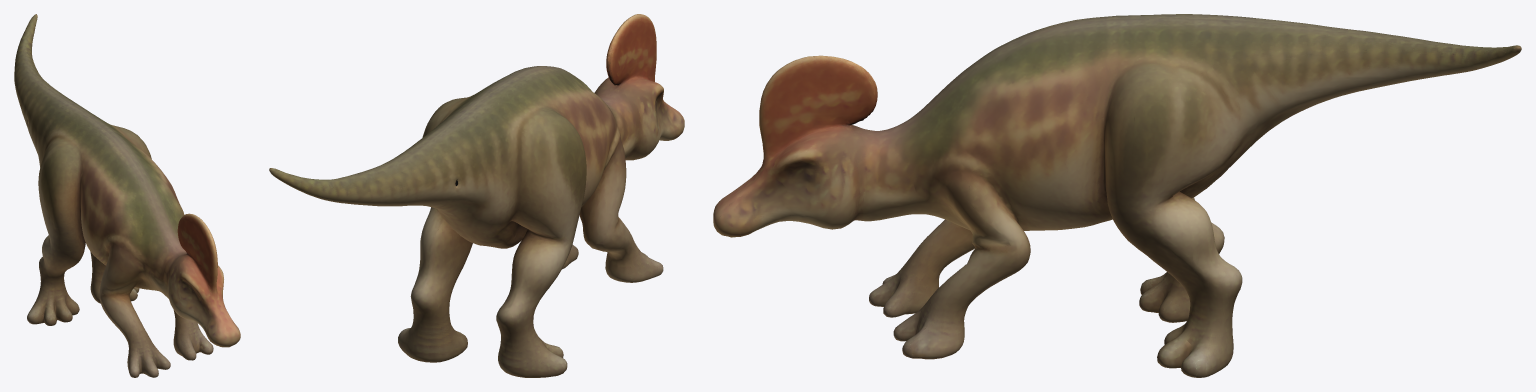
The picture shows the model from 3 angles, left to right: view 1: azimuth 30°, elevation 25°; view 2: azimuth 150°, elevation 25°; view 3: azimuth 270°, elevation 25°; orthographic projection. The views are drawn at different scales.
Visible parts, largest first — view 1: world; view 2: world; view 3: world.
Boxes of the visible parts, x1,y1,x2,y2 form: world: (14, 14, 240, 377); world: (269, 14, 684, 377); world: (713, 14, 1521, 377).
Size of the model in its own units: 2.72 by 4.55 by 10.
1 material, 1 textured.
